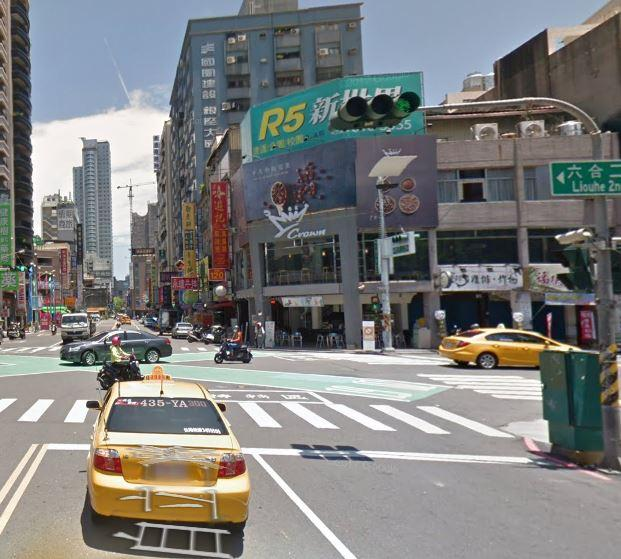green_traffic_light: (330, 93, 420, 131)
